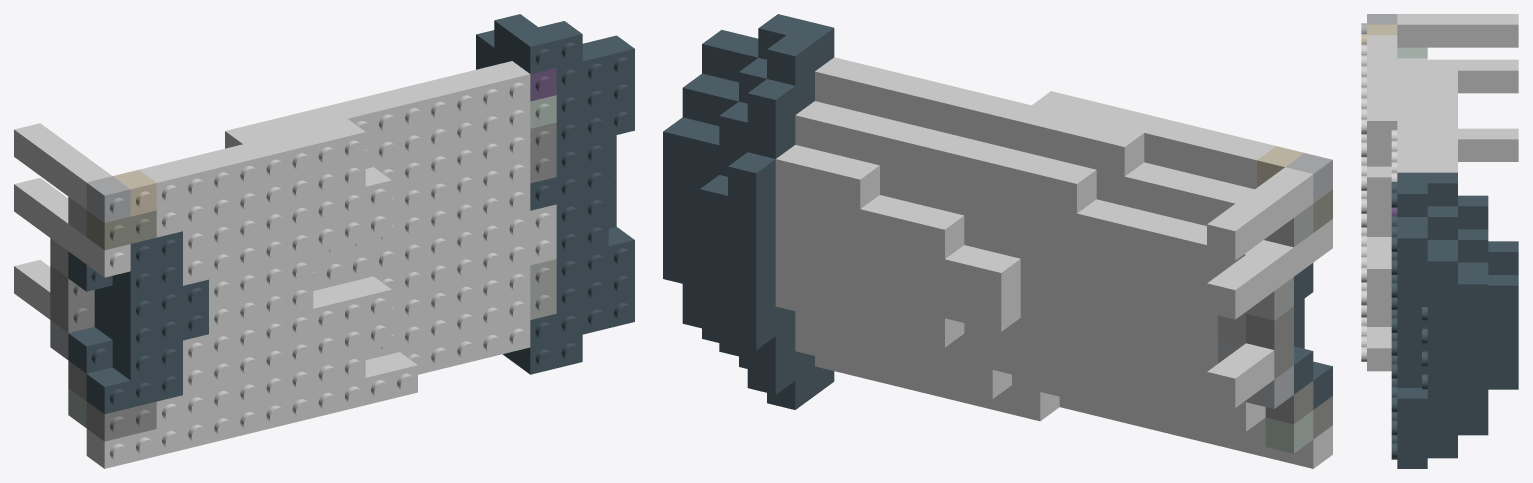
File: full.glb
3 renders of one model, left to right at view 1: azimuth 30°, elevation 25°; view 2: azimuth 150°, elevation 25°; view 3: azimuth 270°, elevation 25°, orthographic. The views are drawn at different scales.
Visible parts, largest first — view 1: world; view 2: world; view 3: world.
Part boxes in pixels (x1,y1,x2,y2): world: (14, 14, 634, 468); world: (663, 14, 1332, 468); world: (1361, 14, 1518, 468).
Size of the model in its own units: 168 by 96 by 49.8.
